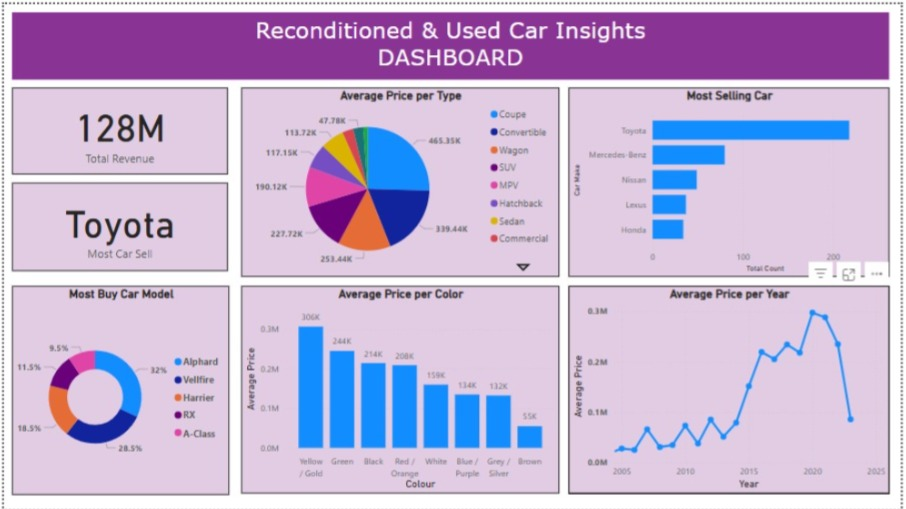

Layout of this report page (visuals, bound fields, positions):
{"tool":"powerbi","page":{"name":"Page 1","canvas":[1280,720],"ordinal":0},"visuals":[{"type":"textbox","box":[12,12,1252,96],"z":0},{"type":"pieChart","title":"Average Price per Type","fields":{"Category":["body type price.body_type"],"Y":["Sum(body type price.average_price)"]},"box":[338,118,454,270],"z":1000},{"type":"columnChart","title":"Average Price per Color","fields":{"Y":["Sum(color over price.average_price_color)"],"Category":["color over price.colour"]},"box":[338,402,454,296],"z":2000},{"type":"barChart","title":"Most Selling Car","fields":{"Category":["most brand selling.car_make"],"Y":["Sum(most brand selling.total_count)"]},"box":[806,118,458,270],"z":3000},{"type":"lineChart","title":"Average Price per Year","fields":{"Category":["year price.year_manufactured"],"Y":["Sum(year price.average_price)"]},"box":[806,402,458,296],"z":4000},{"type":"card","fields":{"Values":["Sum(revenue.total_revenue)"]},"box":[12,118,308,124],"z":5000},{"type":"card","fields":{"Values":["Max(most brand selling.car_make)"]},"box":[12,254,308,126],"z":6000},{"type":"donutChart","title":"Most Buy Car Model","fields":{"Y":["Sum(most buy car model.car_model_1)"],"Category":["most buy car model.car_model"]},"box":[12,402,310,298],"z":7000}]}

Visuals, with their boxes in screenshot pixels (x1, y1, x2, y2), scaled from the page's 1280x720 canvas onto the 906x509 screenshot:
textbox: region(8, 8, 895, 76)
"Average Price per Type" pieChart: region(239, 83, 561, 274)
"Average Price per Color" columnChart: region(239, 284, 561, 493)
"Most Selling Car" barChart: region(570, 83, 895, 274)
"Average Price per Year" lineChart: region(570, 284, 895, 493)
card - Sum(revenue.total_revenue): region(8, 83, 226, 171)
card - Max(most brand selling.car_make): region(8, 180, 226, 269)
"Most Buy Car Model" donutChart: region(8, 284, 228, 495)
